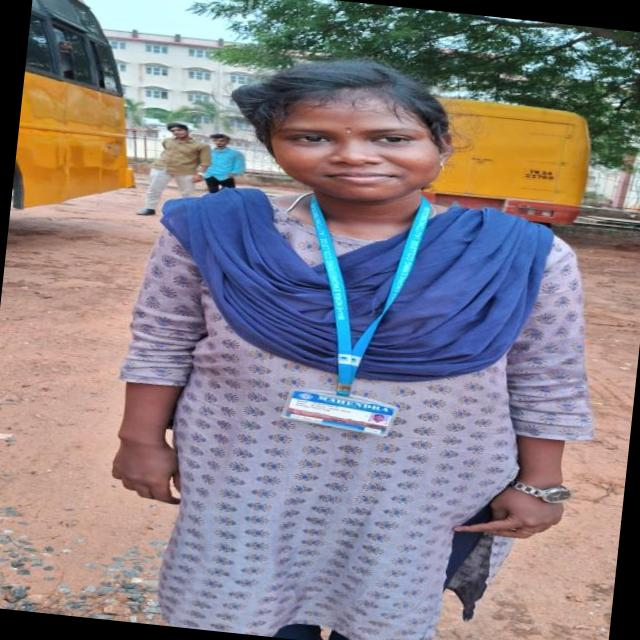id_card: (283, 186, 437, 436)
